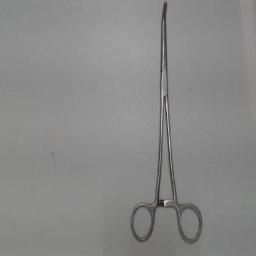Lahey Forceps: (124, 2, 204, 248)
